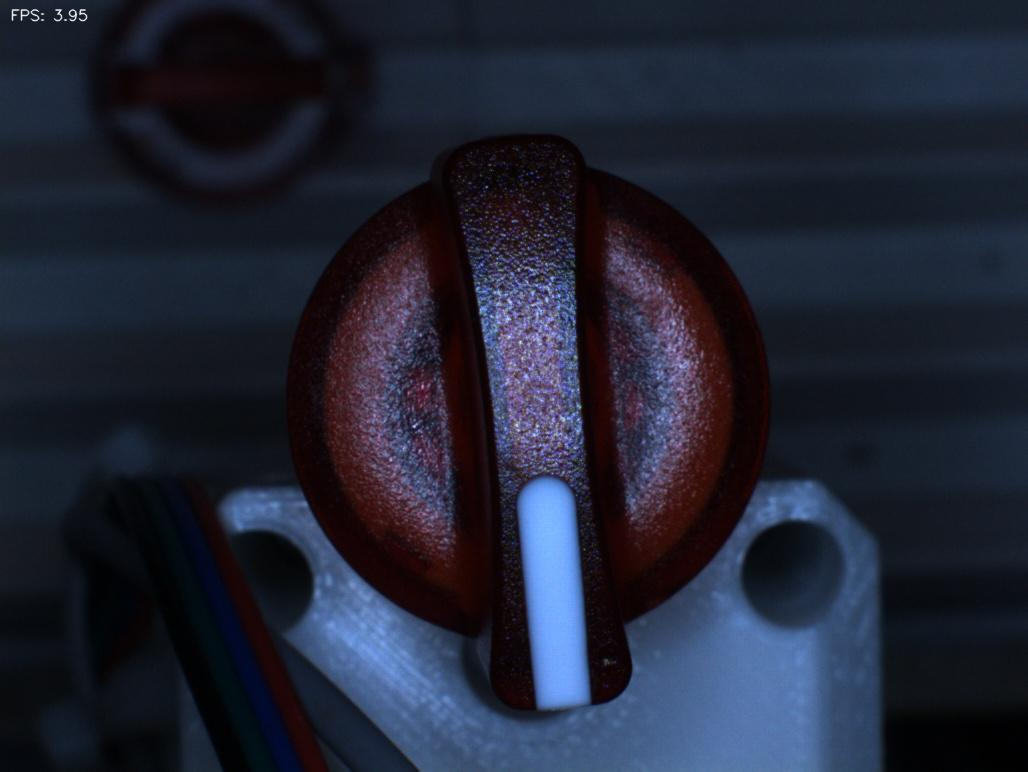Choc: (579, 619, 650, 695)
